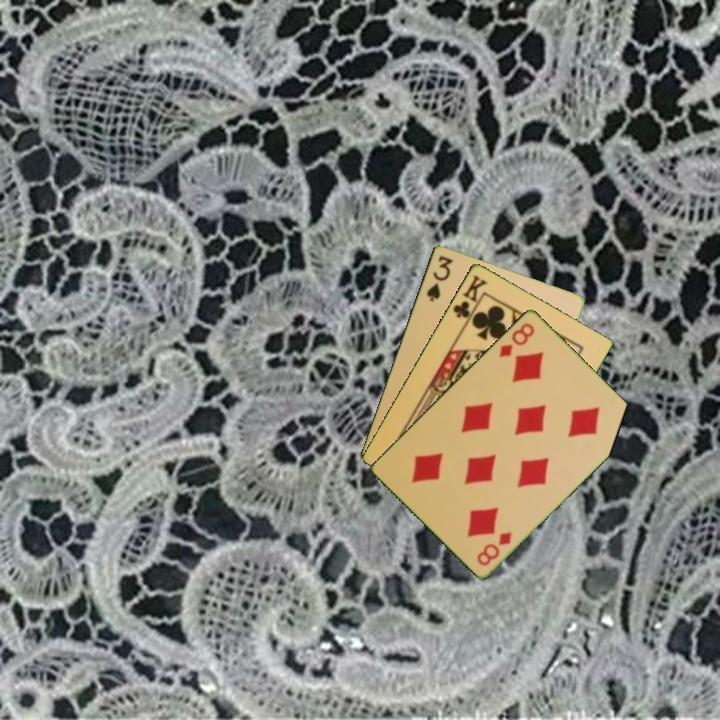3s: (423, 252, 456, 304)
8d: (495, 319, 537, 360), (473, 528, 515, 568)
Kc: (449, 271, 490, 327)
